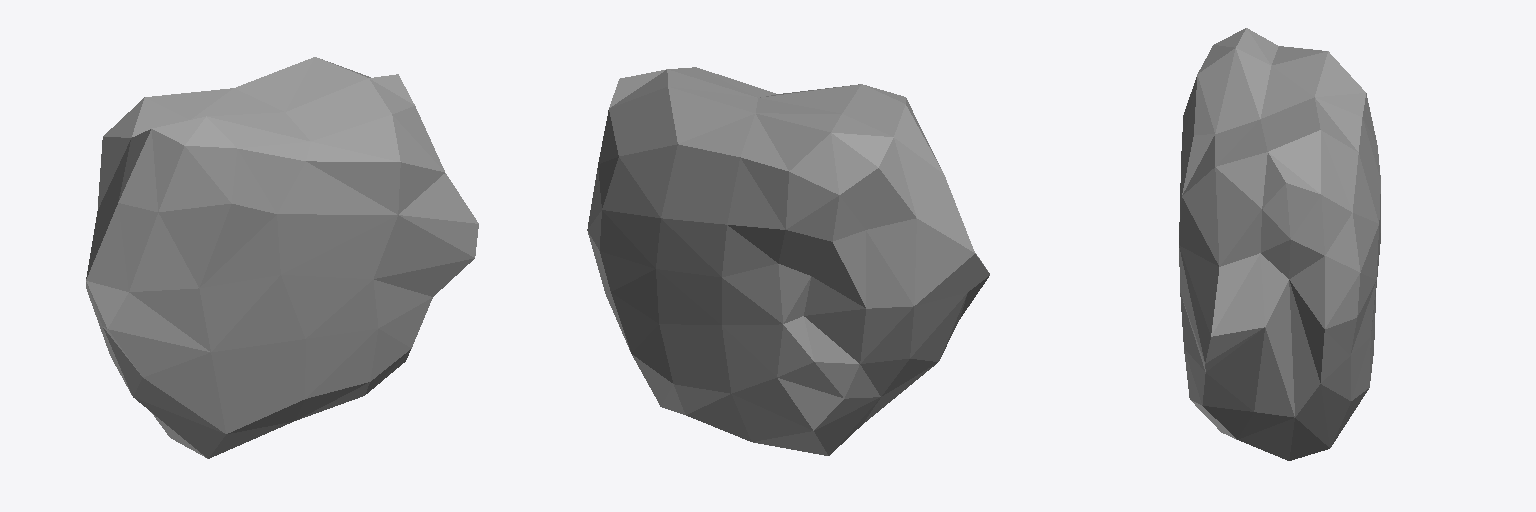
The model's file is stone.obj.
3 views of the same model, side by side, from view 1: azimuth 30°, elevation 25°; view 2: azimuth 150°, elevation 25°; view 3: azimuth 270°, elevation 25° (orthographic).
Parts seen in each view (by area): view 1: Cube.001; view 2: Cube.001; view 3: Cube.001.
Part boxes in pixels (left/top/right/bottom): Cube.001: left=86, top=57, right=478, bottom=458; Cube.001: left=587, top=67, right=989, bottom=455; Cube.001: left=1179, top=28, right=1380, bottom=460.
Bounding box in the file's own units: 4.84 × 4.24 × 2.24.